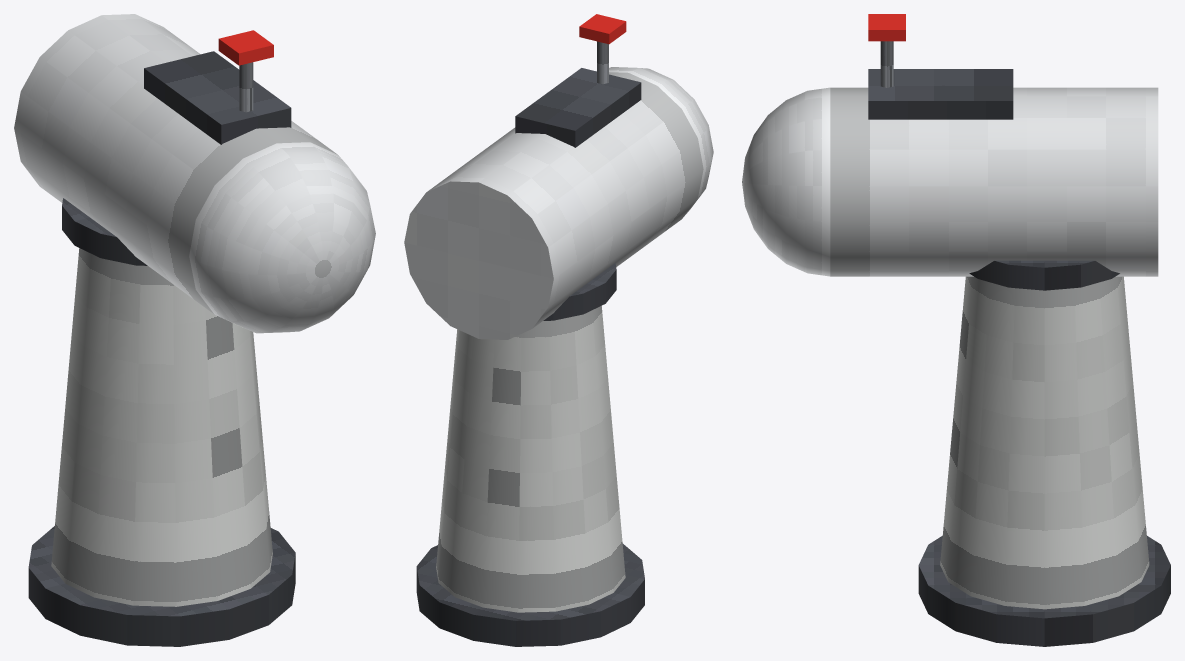
File: windmill.obj
3 renders of one model, left to right at view 1: azimuth 30°, elevation 25°; view 2: azimuth 150°, elevation 25°; view 3: azimuth 270°, elevation 25°, orthographic. The views are drawn at different scales.
Size of the model in its own units: 0.4 by 1 by 0.68.
